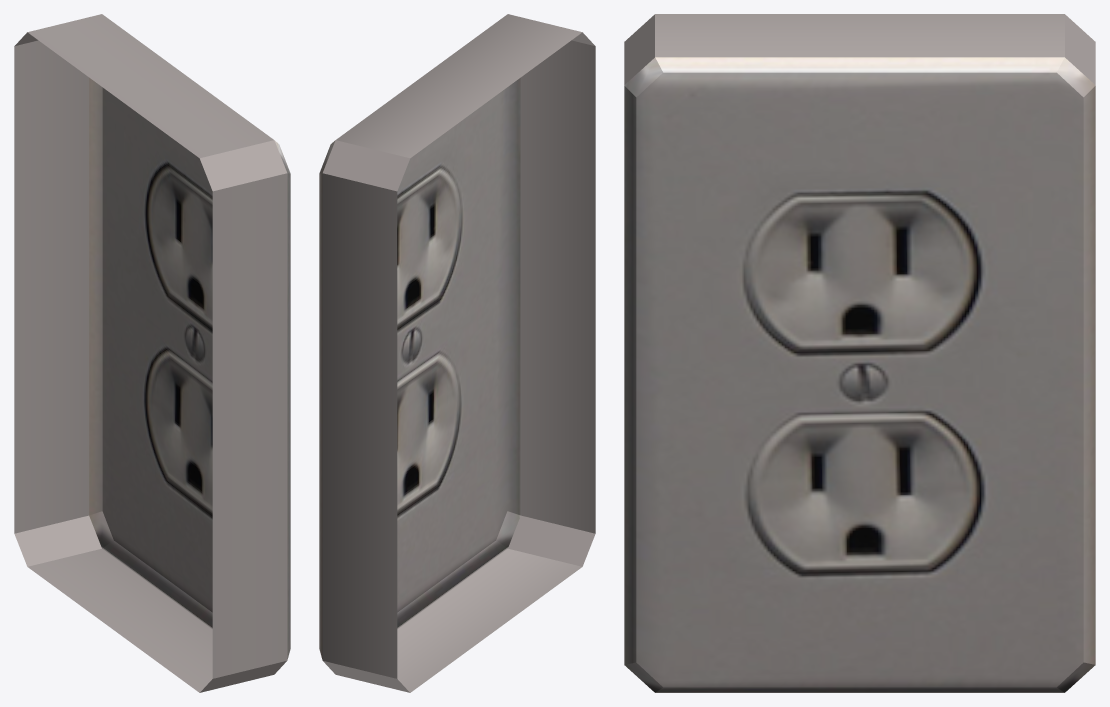
File: PROPS_outlet_01.FBX
3 views of the same model, side by side, from view 1: azimuth 30°, elevation 25°; view 2: azimuth 150°, elevation 25°; view 3: azimuth 270°, elevation 25° (orthographic). The views are drawn at different scales.
Parts seen in each view (by area): view 1: PROPS_outlet_01; view 2: PROPS_outlet_01; view 3: PROPS_outlet_01.
Boxes of the visible parts, x1,y1,x2,y2 form: PROPS_outlet_01: (14, 14, 290, 692); PROPS_outlet_01: (319, 14, 595, 692); PROPS_outlet_01: (624, 14, 1095, 692).
Bounding box in the file's own units: 4.04 × 24.85 × 16.71.
Materials: 1 (1 with a texture image).
